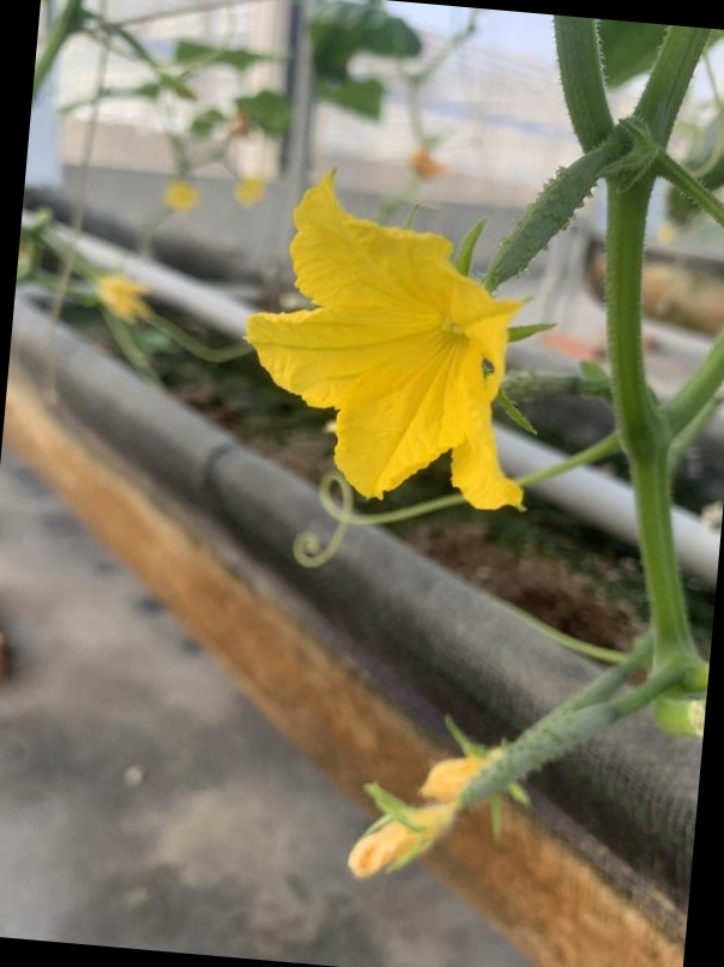bear: (331, 683, 611, 887)
flowering: (232, 138, 606, 532)
